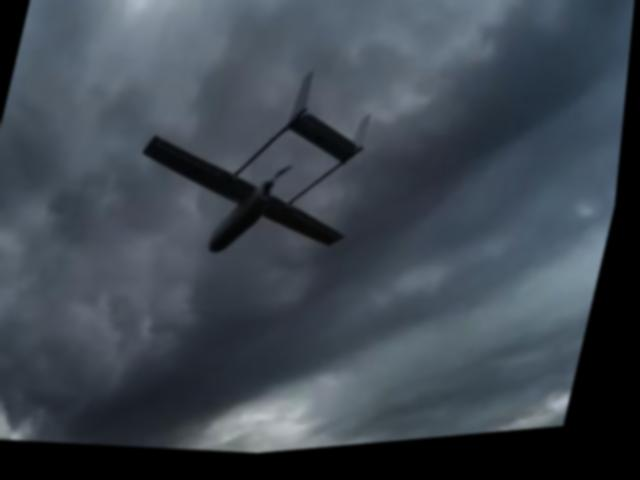uav: (119, 46, 394, 288)
